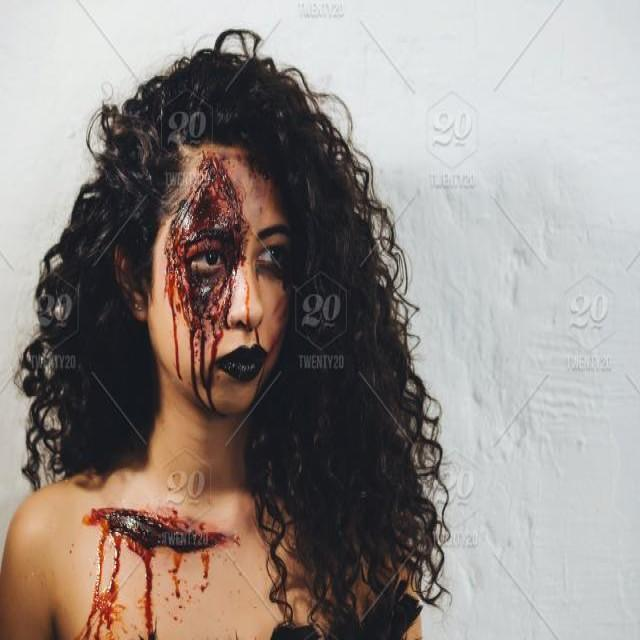flood: (156, 146, 246, 404), (89, 494, 224, 640)
